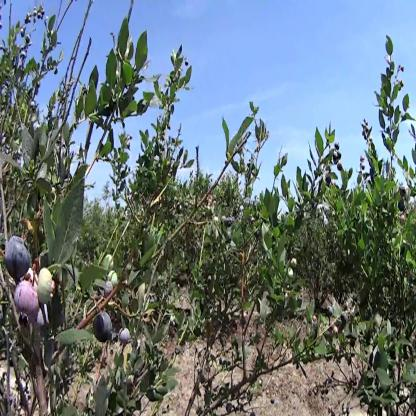intermediate: (15, 283, 39, 327)
mature: (8, 242, 31, 278), (94, 316, 114, 339), (120, 328, 132, 346)
young: (38, 270, 57, 310), (105, 254, 117, 273), (109, 272, 120, 288)
